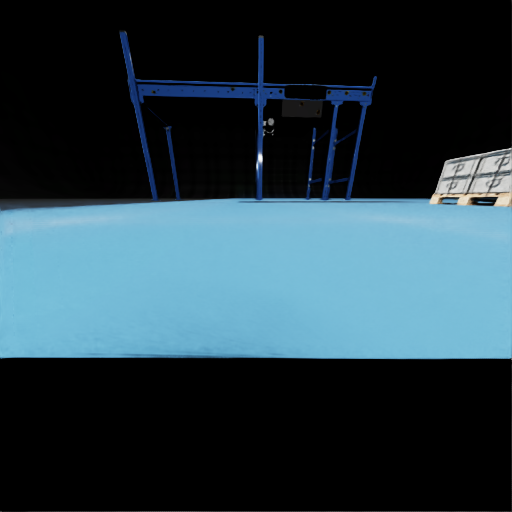transportation_area: (485, 148, 508, 196), (468, 171, 511, 193), (453, 157, 461, 178), (446, 180, 452, 196)
